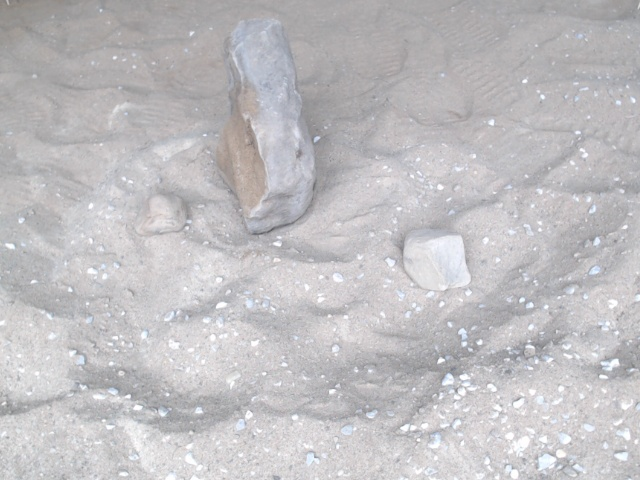rock: (212, 10, 322, 239), (398, 220, 475, 298), (129, 188, 193, 242)
